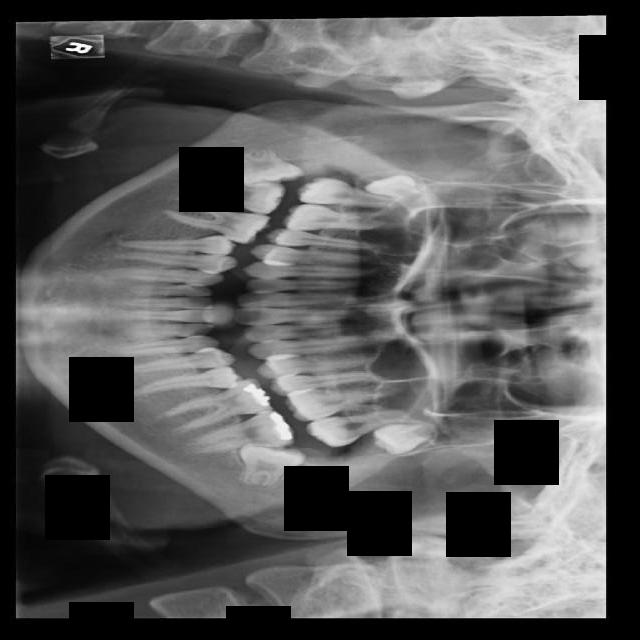3M ESPE Implant: (362, 168, 427, 203)
52: (225, 376, 272, 419), (246, 410, 295, 448)
73: (44, 594, 55, 600)
BioHorizons Implant: (305, 403, 425, 452)
BioLife Implant: (372, 424, 425, 455)
Biomet 3i Implant: (235, 440, 306, 492)
Blue Sky Bio Implant: (184, 407, 295, 456)
Caries: (294, 176, 408, 210)
Implant: (184, 180, 286, 215)
Keystone Dental Implant: (235, 143, 304, 190)
